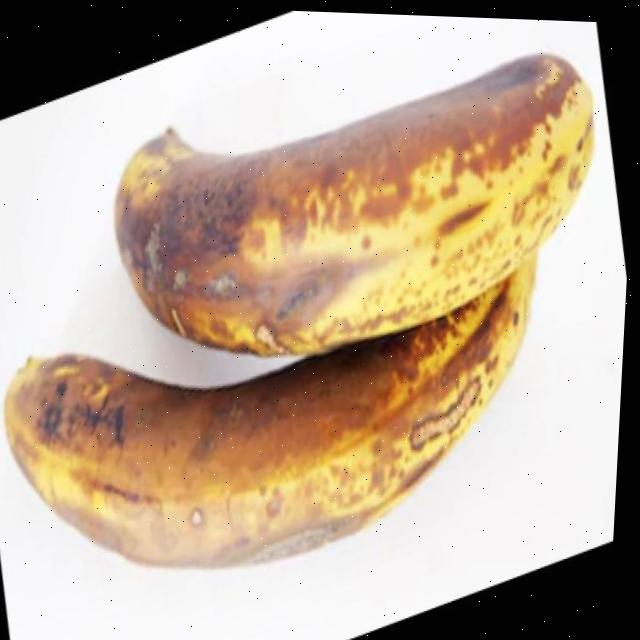banana: (0, 34, 597, 583)
